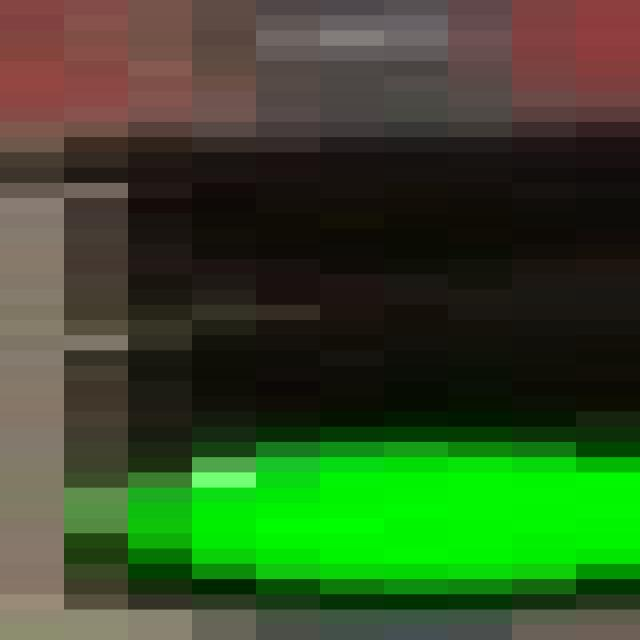green_light: (10, 110, 640, 608)
